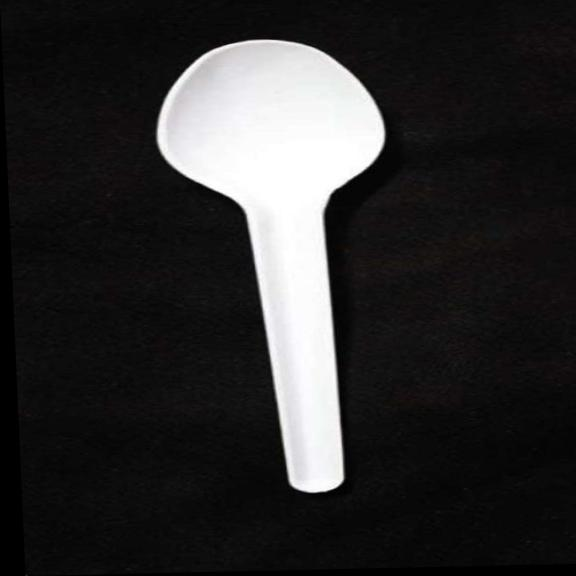Plastik: (158, 40, 384, 492)
